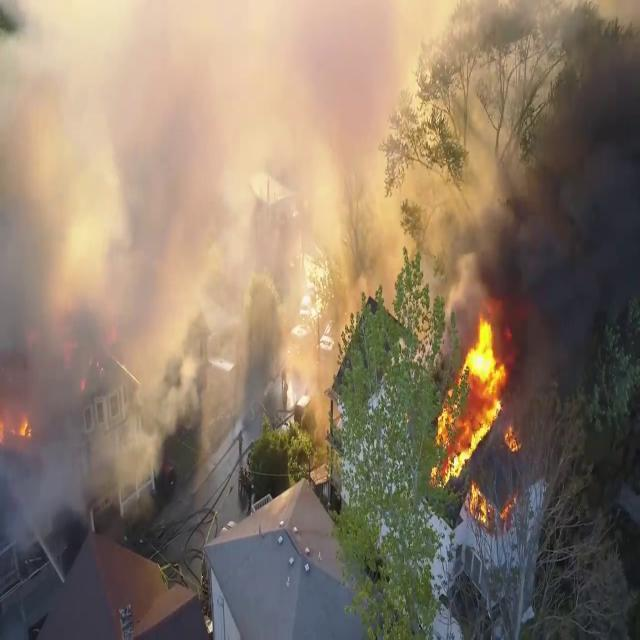Fire: (431, 311, 524, 498), (0, 403, 31, 452)
Smoke: (0, 0, 386, 510), (430, 1, 640, 347)
